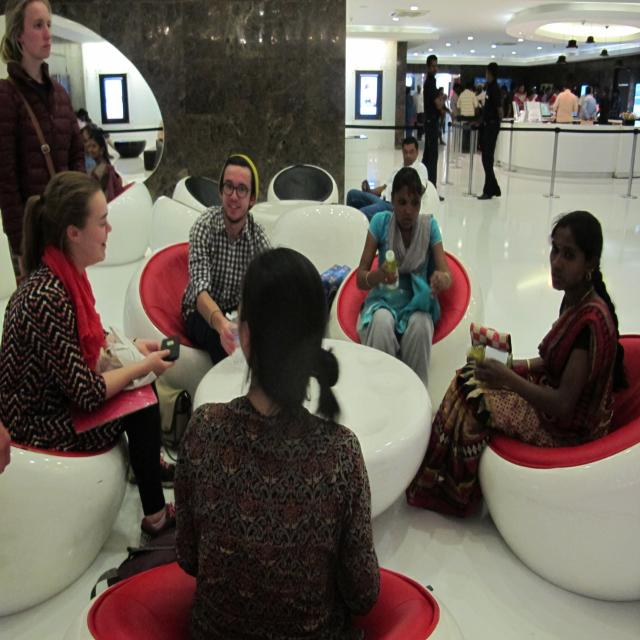body: (171, 251, 380, 640), (404, 207, 631, 519), (0, 171, 177, 547), (0, 0, 92, 291), (354, 166, 453, 394), (180, 152, 274, 373), (439, 81, 626, 139), (346, 136, 428, 223), (476, 60, 505, 201), (422, 55, 448, 202), (85, 130, 125, 203), (456, 81, 478, 153), (0, 412, 18, 481), (552, 80, 579, 125), (79, 123, 99, 173), (432, 88, 448, 146), (435, 85, 451, 135), (523, 88, 539, 138), (552, 84, 570, 124), (580, 86, 598, 125), (413, 84, 425, 141), (578, 86, 594, 121), (405, 86, 415, 138), (507, 83, 518, 130), (598, 86, 611, 125), (72, 107, 96, 128), (534, 89, 545, 133), (450, 82, 462, 122), (499, 84, 512, 119), (513, 81, 527, 112), (542, 85, 552, 127), (612, 89, 623, 120), (475, 83, 487, 107), (570, 83, 579, 115), (474, 84, 484, 105), (529, 85, 536, 109)
